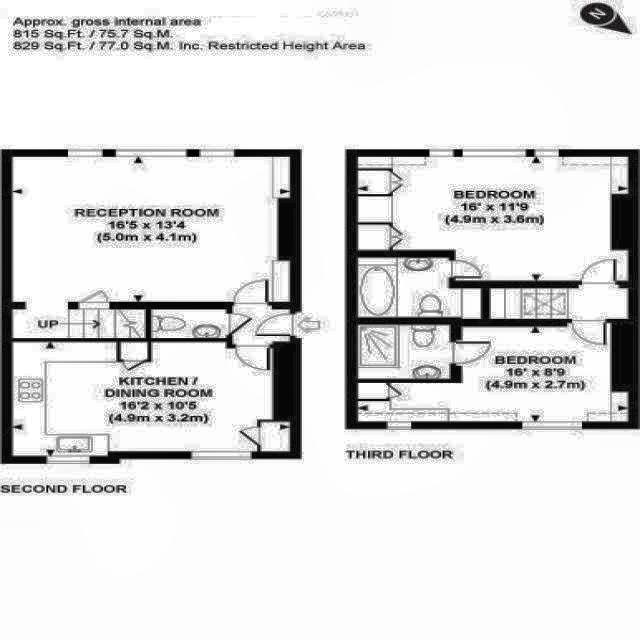room: (13, 157, 274, 301), (360, 157, 630, 281), (13, 342, 289, 457), (358, 326, 629, 421), (359, 258, 448, 317), (359, 325, 449, 379), (490, 289, 627, 318), (14, 310, 145, 338), (151, 309, 227, 338), (232, 309, 290, 341)
